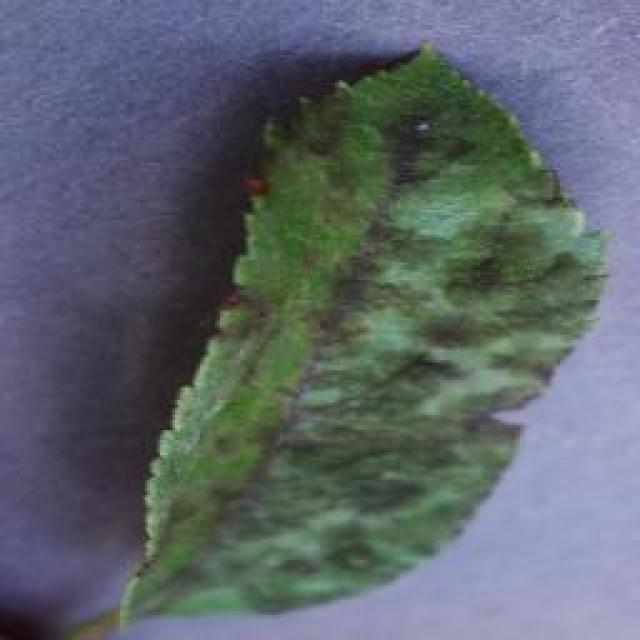apple scab disease: (115, 38, 610, 628)
